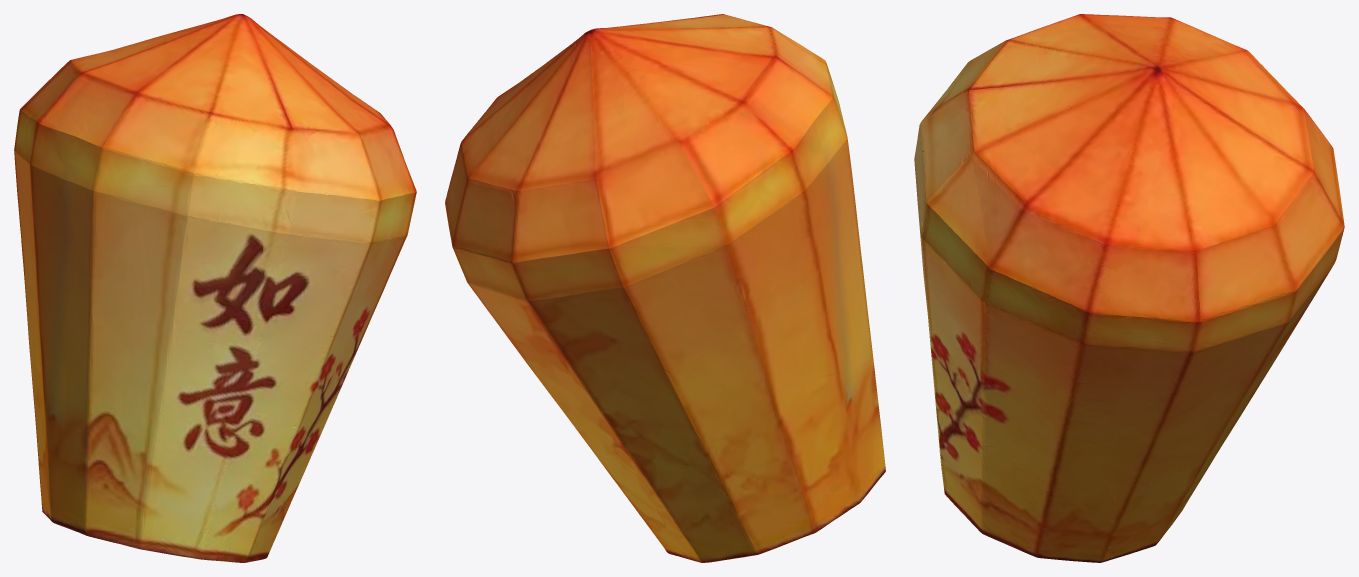
Rendered from sky-nhuy.glb.
The picture shows the model from 3 angles, left to right: view 1: azimuth 30°, elevation 25°; view 2: azimuth 150°, elevation 25°; view 3: azimuth 270°, elevation 25°; orthographic projection. The views are drawn at different scales.
Parts seen in each view (by area): view 1: sky_src.glb; view 2: sky_src.glb; view 3: sky_src.glb.
Boxes of the visible parts, x1,y1,x2,y2 form: sky_src.glb: (14, 14, 416, 562); sky_src.glb: (445, 14, 885, 562); sky_src.glb: (914, 14, 1344, 562).
Bounding box in the file's own units: 0.2457 × 0.3239 × 0.2437.
1 material, 1 textured.
